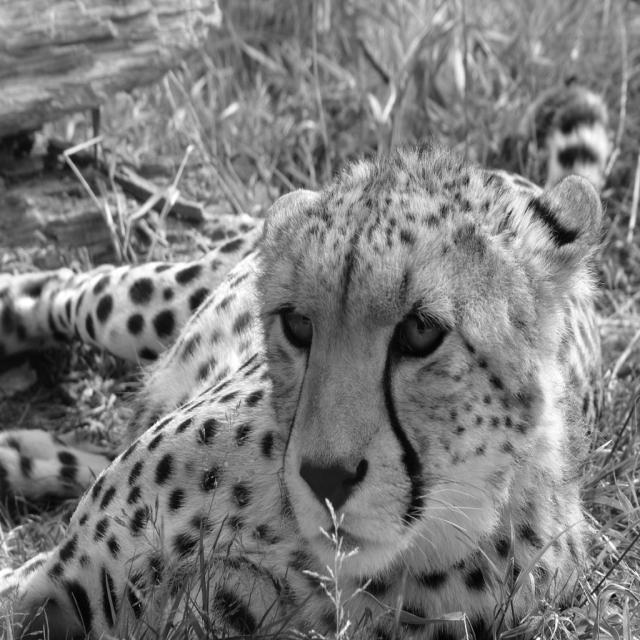Cheetah: (0, 131, 611, 639)
